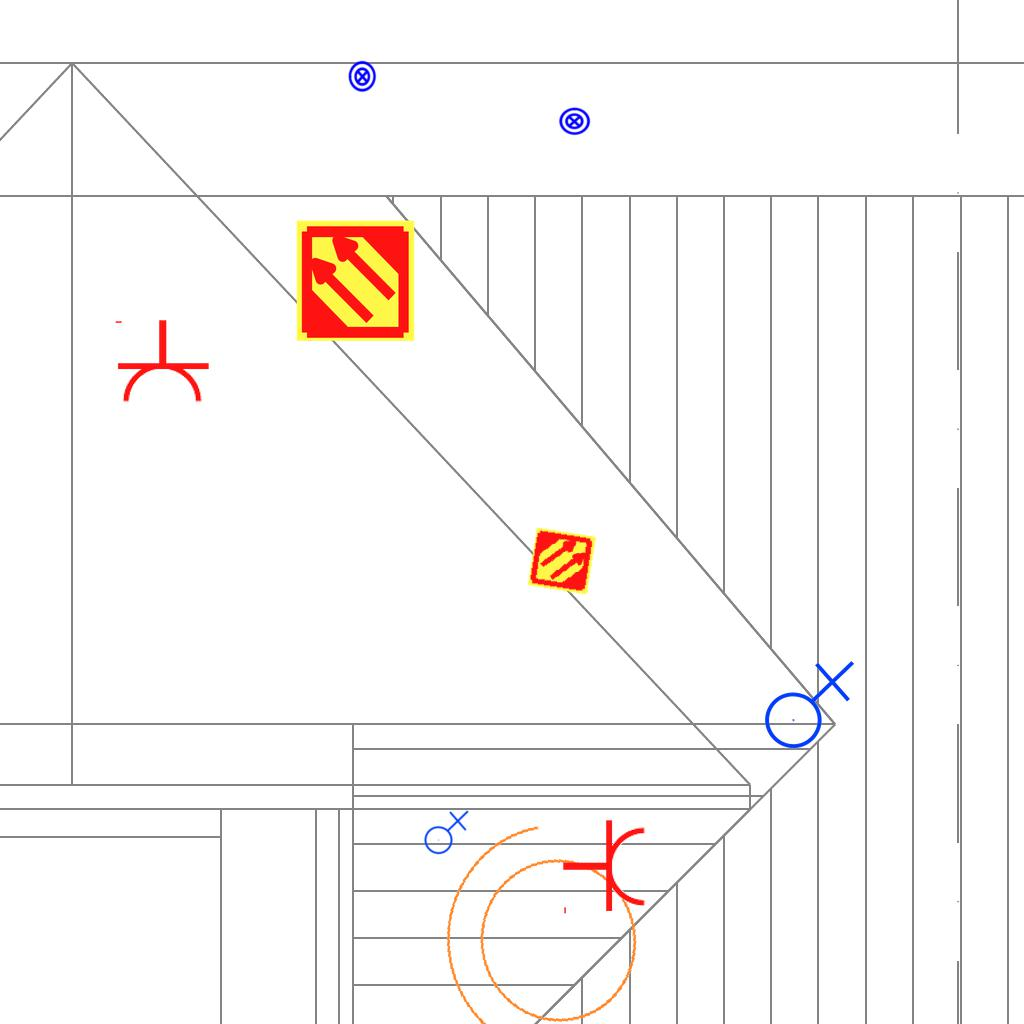ASR_Ansaugrauchmelder: (293, 218, 418, 343), (526, 525, 598, 597)
Elektroanschluss_allgemein_230V_Geraeteanschlussdose_230V: (756, 656, 855, 750), (420, 808, 469, 855)
Scheinwerfer_fuer_Alarmbeleuchtung: (416, 798, 684, 1024)
Schukosteckdose_einfach: (111, 318, 211, 405), (561, 818, 648, 918)
Taster_beleuchtet: (346, 60, 379, 93), (558, 105, 591, 138)
